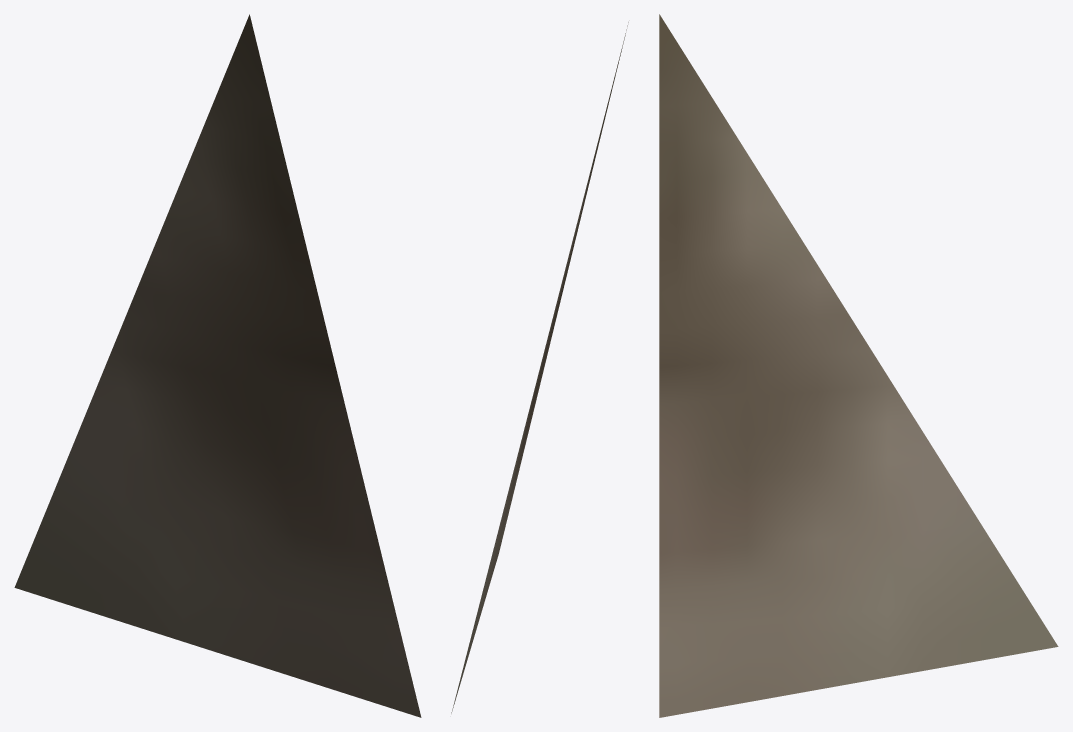
3 renders of one model, left to right at view 1: azimuth 30°, elevation 25°; view 2: azimuth 150°, elevation 25°; view 3: azimuth 270°, elevation 25°, orthographic. The views are drawn at different scales.
Size of the model in its own units: 0.0501 by 0.2077 by 0.1187.
1 material, 1 textured.
